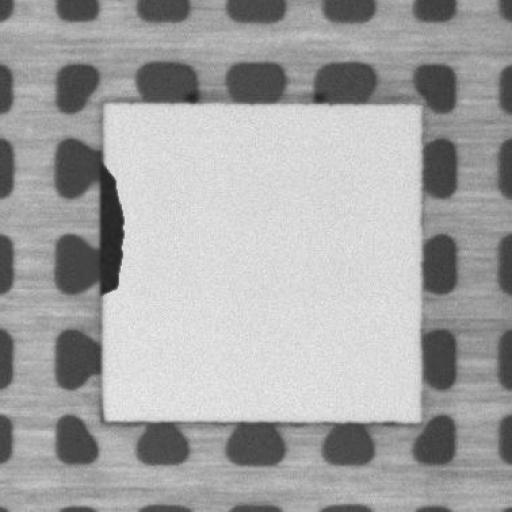DIE_BROKEN: (94, 165, 126, 302)
